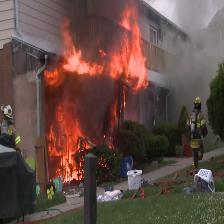fire: (42, 12, 154, 200)
smoke: (70, 0, 224, 56)
